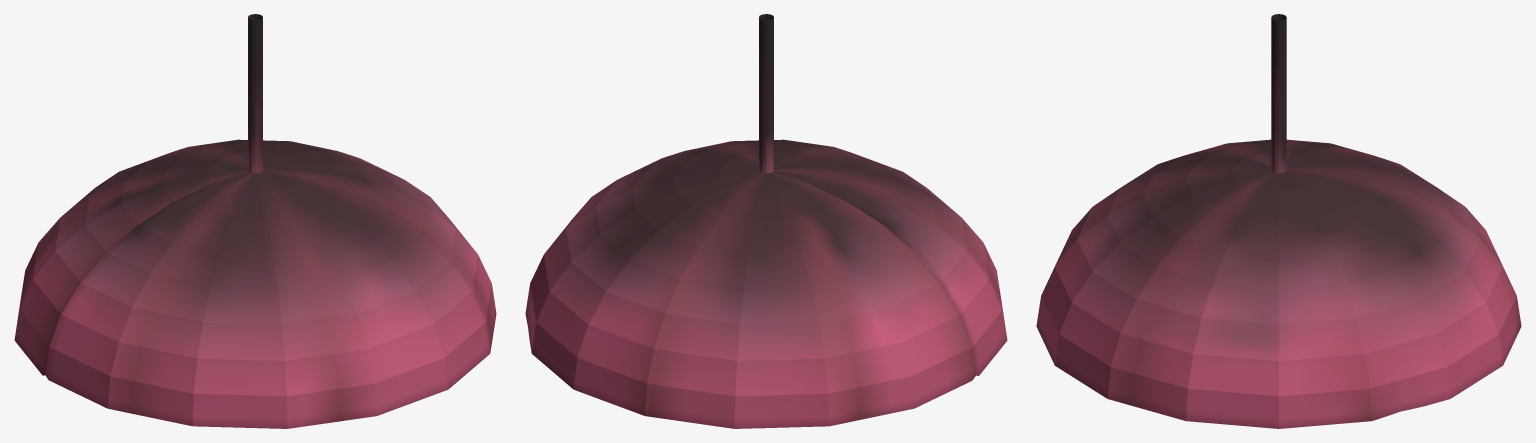
File: ceiling_lamp_TipoB.fbx
The picture shows the model from 3 angles, left to right: view 1: azimuth 30°, elevation 25°; view 2: azimuth 150°, elevation 25°; view 3: azimuth 270°, elevation 25°; orthographic projection.
Parts seen in each view (by area): view 1: Sphere, Cylinder.006; view 2: Sphere, Cylinder.006; view 3: Sphere, Cylinder.006.
Part boxes in pixels (x1,y1,x2,y2): Sphere: (14,139,496,428); Cylinder.006: (248,14,262,173); Sphere: (525,139,1007,428); Cylinder.006: (759,14,773,173); Sphere: (1036,139,1521,428); Cylinder.006: (1271,14,1286,172).
Size of the model in its own units: 139 by 110 by 139.
